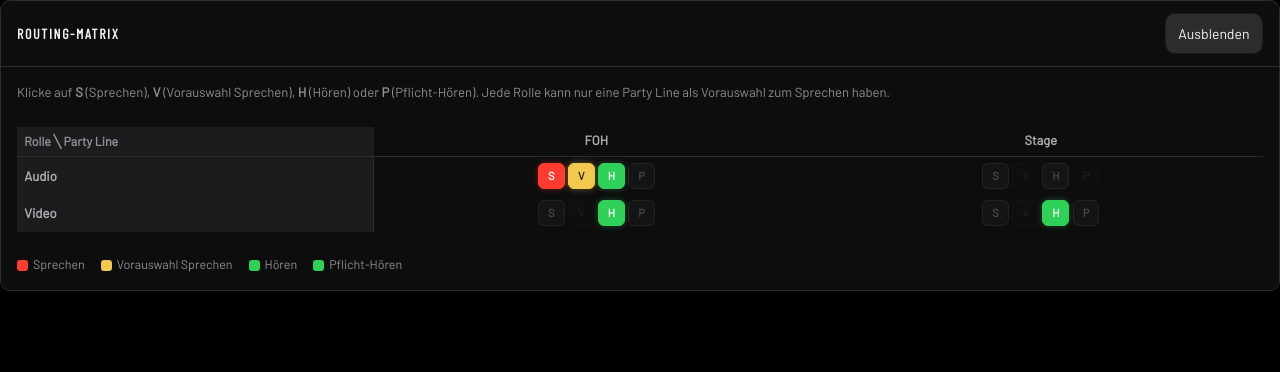
Test: AdminRoutingMatrixCard › discard resets changes
// Toggle Audio talk on Stage (off→on)
Click the button named "Sprechen Audio → Stage: aus" at point(996, 176), box [982,162,1009,189]
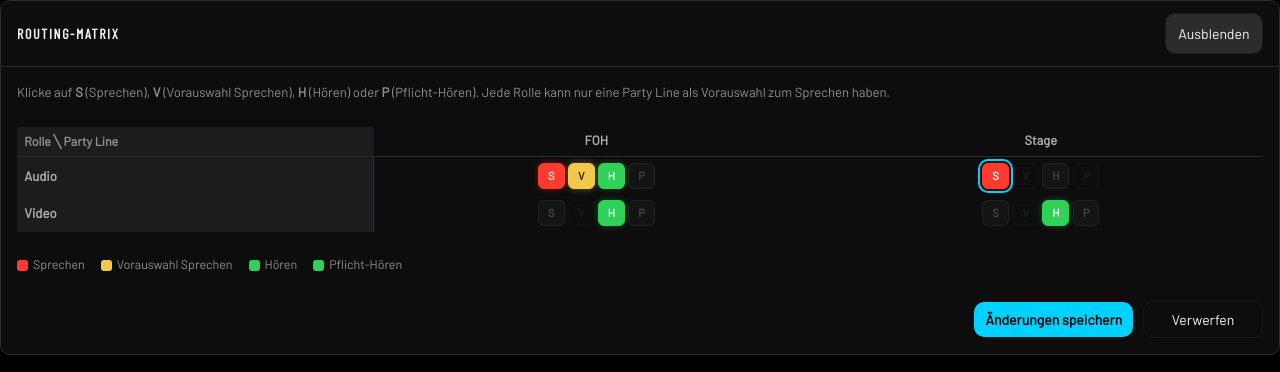
// Now discard
Click the button "Verwerfen" at point(1203, 320), box [1143,301,1263,338]
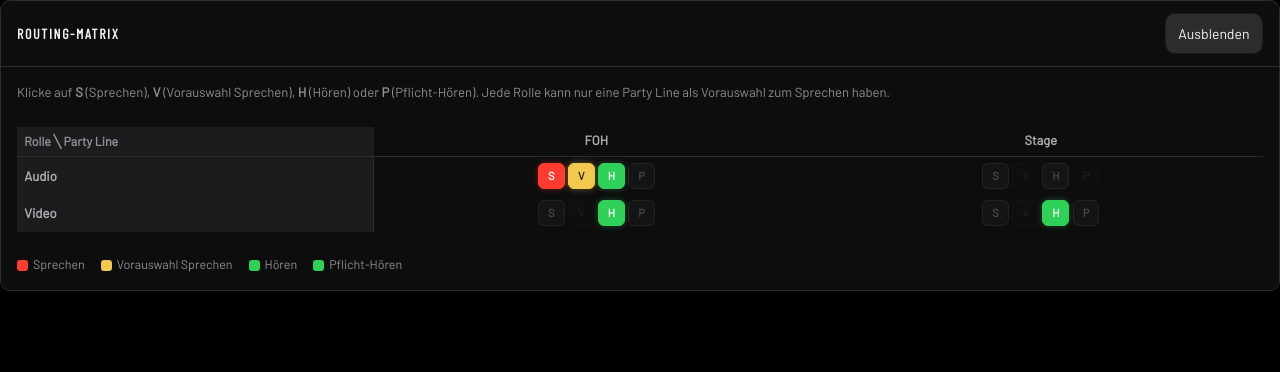
expect the button named "Sprechen Audio → Stage: aus" is shown: met, box [982,162,1009,189]
expect the button "Änderungen speichern" is gone: met
